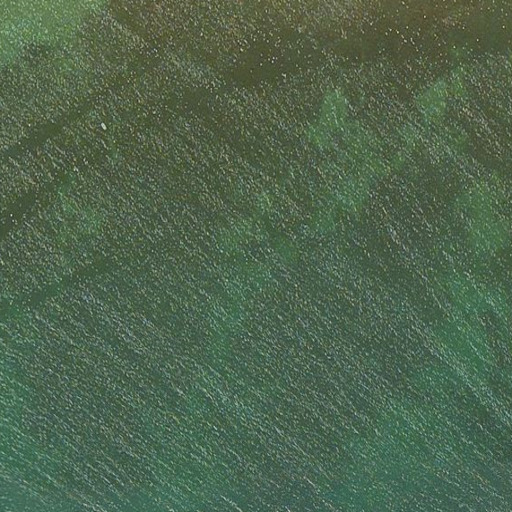ship: (98, 120, 108, 132)
